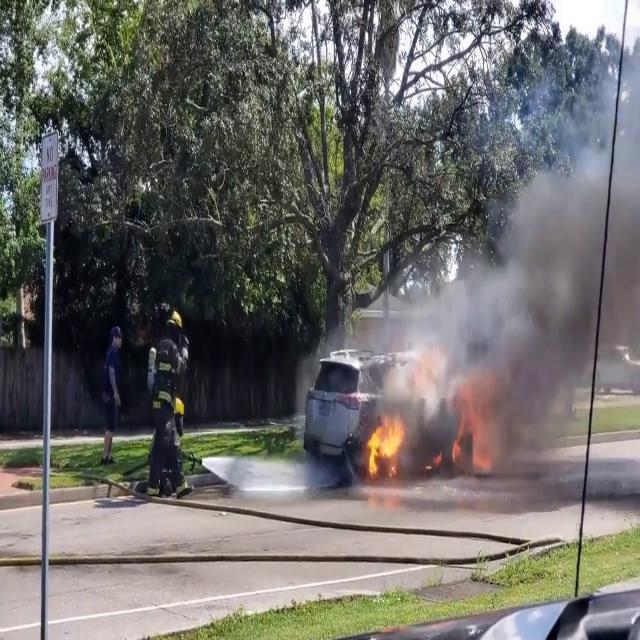Fire: (362, 407, 409, 484)
Smoke: (370, 84, 640, 488)
